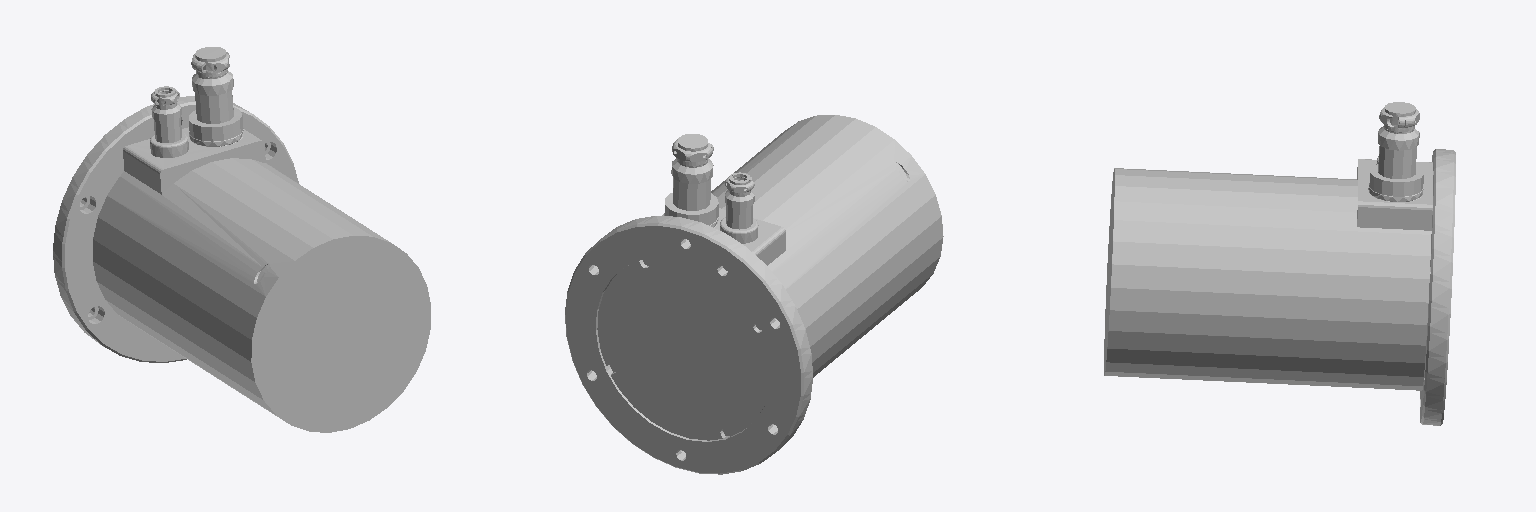
3 renders of one model, left to right at view 1: azimuth 30°, elevation 25°; view 2: azimuth 150°, elevation 25°; view 3: azimuth 270°, elevation 25°, orthographic.
Visible parts, largest first — view 1: link_base; view 2: link_base; view 3: link_base.
Part boxes in pixels (bbox=[...]): link_base: bbox=[53, 47, 430, 432]; link_base: bbox=[565, 115, 943, 474]; link_base: bbox=[1104, 102, 1455, 425].
Bounding box in the file's own units: 0.1259 × 0.1572 × 0.1603.